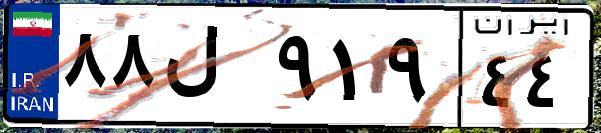1: (330, 28, 385, 110)
4: (475, 38, 525, 113), (525, 38, 570, 115)
8: (57, 26, 110, 100), (110, 28, 158, 98)
9: (270, 28, 330, 110), (385, 28, 445, 110)
ل: (158, 20, 270, 120)
